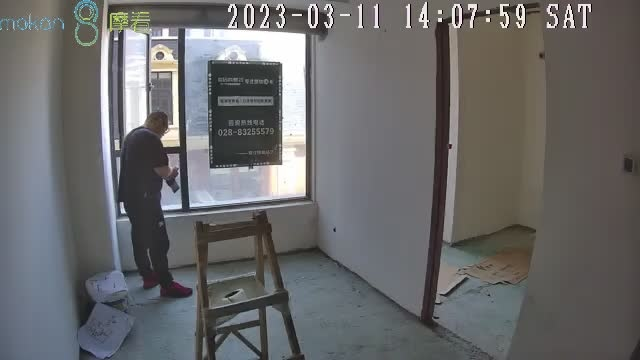people: (118, 111, 192, 298)
window: (109, 20, 312, 217)
